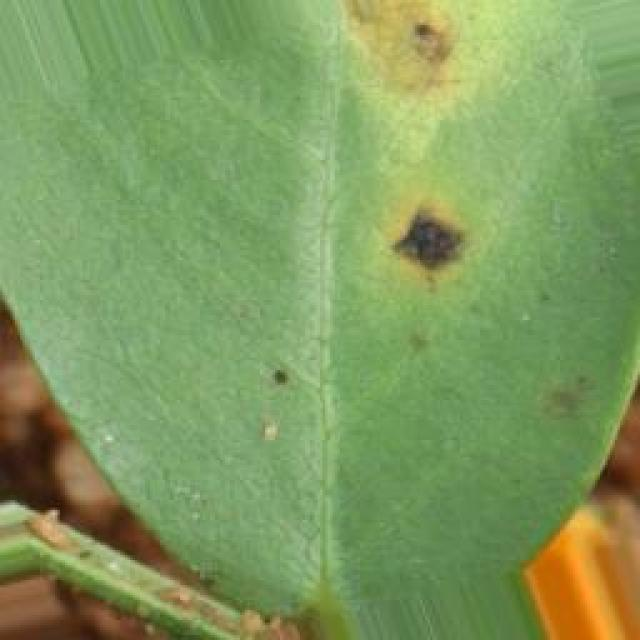Early_leaf_spot: (343, 0, 485, 82), (351, 188, 475, 280), (238, 350, 306, 448)
